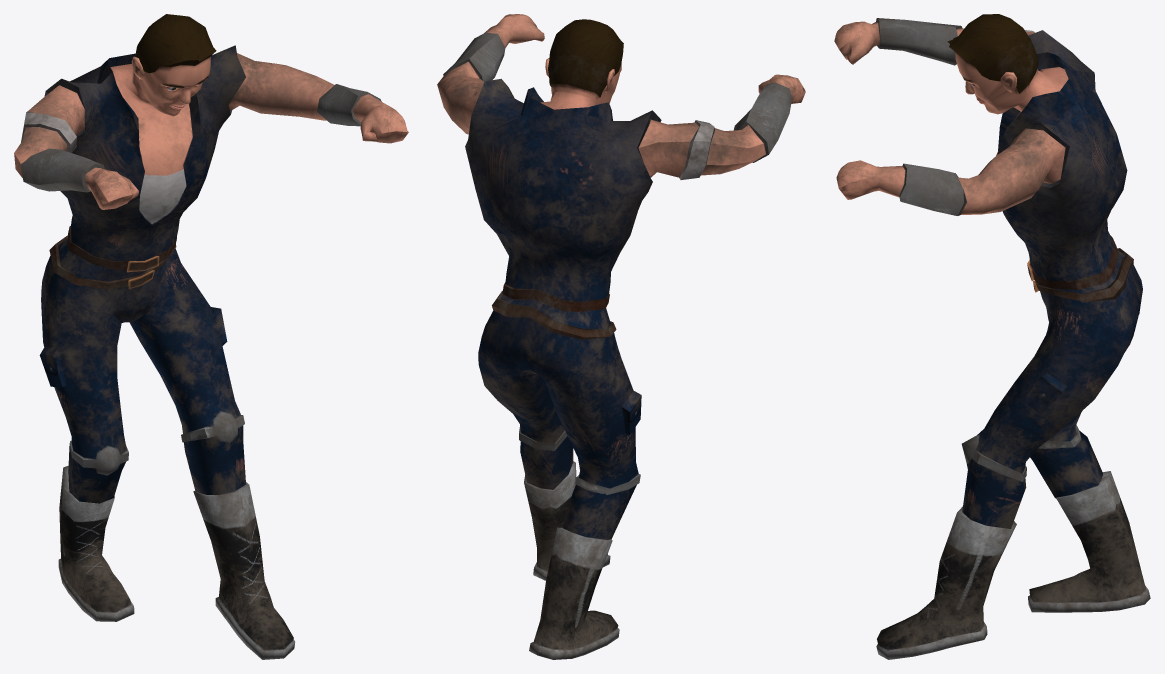
The model's file is Anim_ataque_d3_jugador.0047.obj.
The picture shows the model from 3 angles, left to right: view 1: azimuth 30°, elevation 25°; view 2: azimuth 150°, elevation 25°; view 3: azimuth 270°, elevation 25°; orthographic projection. The views are drawn at different scales.
Parts seen in each view (by area): view 1: polySurface1; view 2: polySurface1; view 3: polySurface1.
Part boxes in pixels (<box>): polySurface1: <box>14,14,408,659</box>; polySurface1: <box>437,14,805,659</box>; polySurface1: <box>834,14,1150,659</box>.
Bounding box in the file's own units: 5.22 × 9.08 × 4.25.
